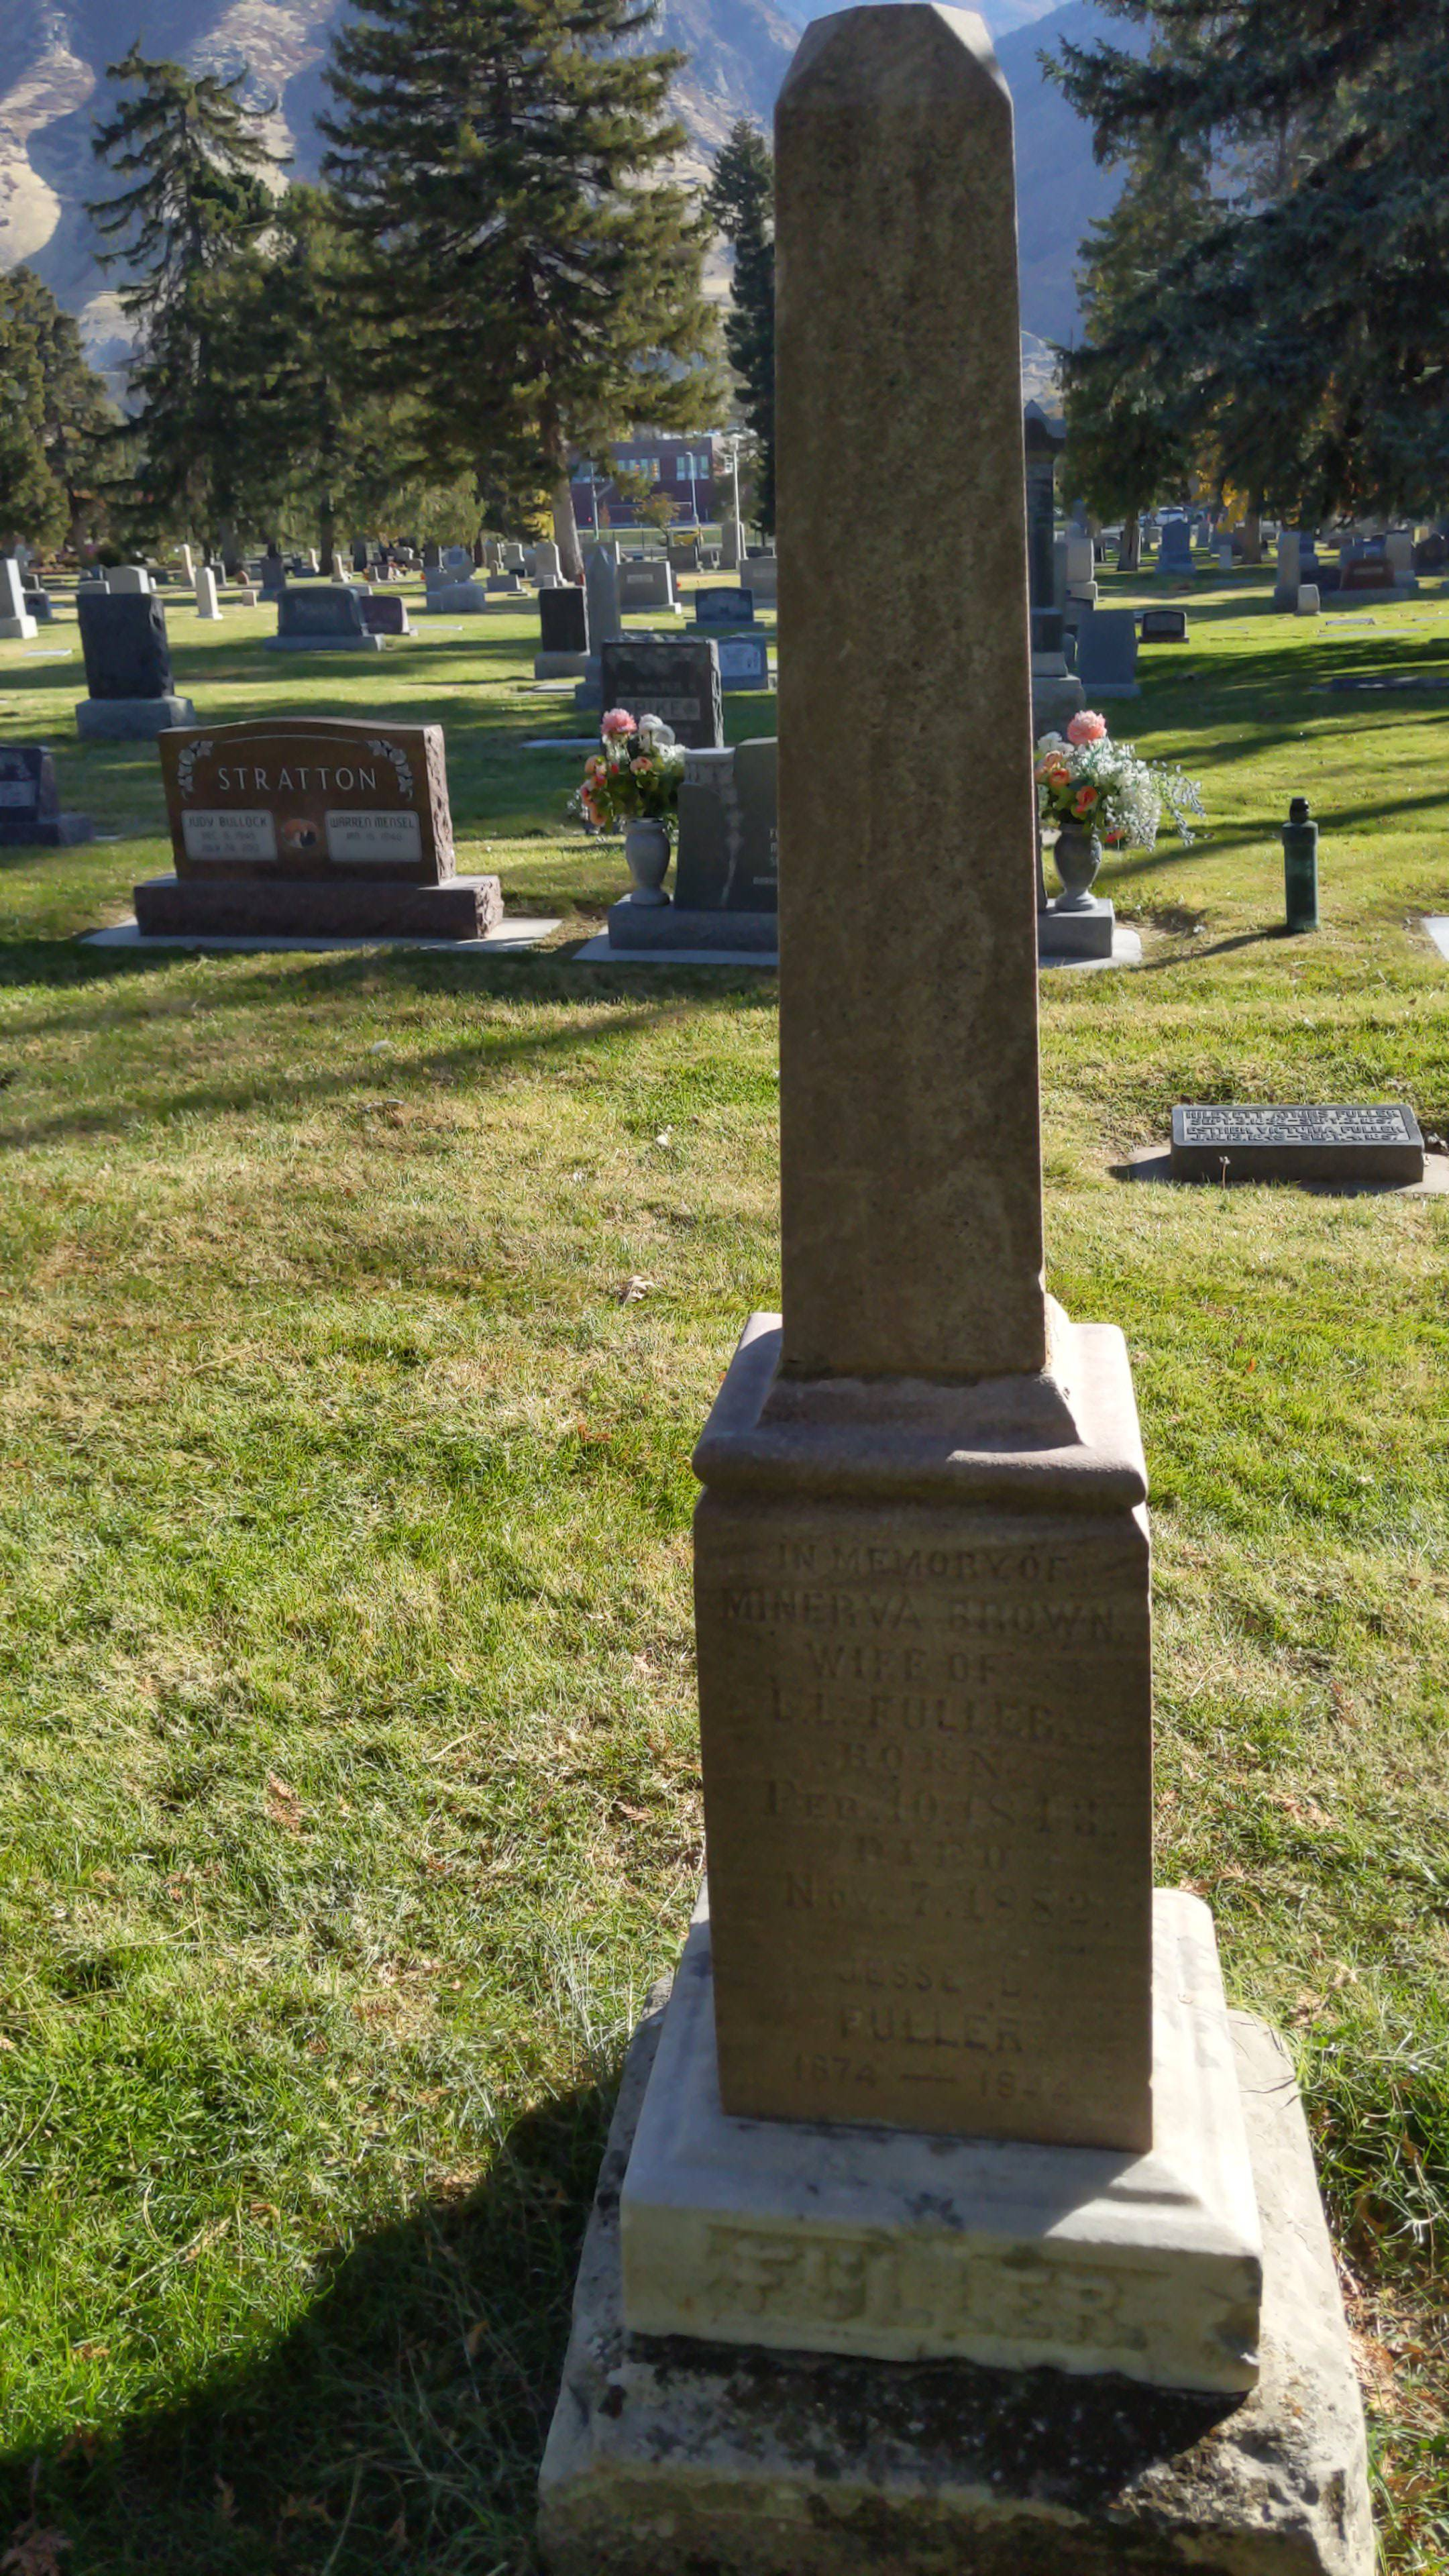obelisk: (697, 5, 1152, 2151)
